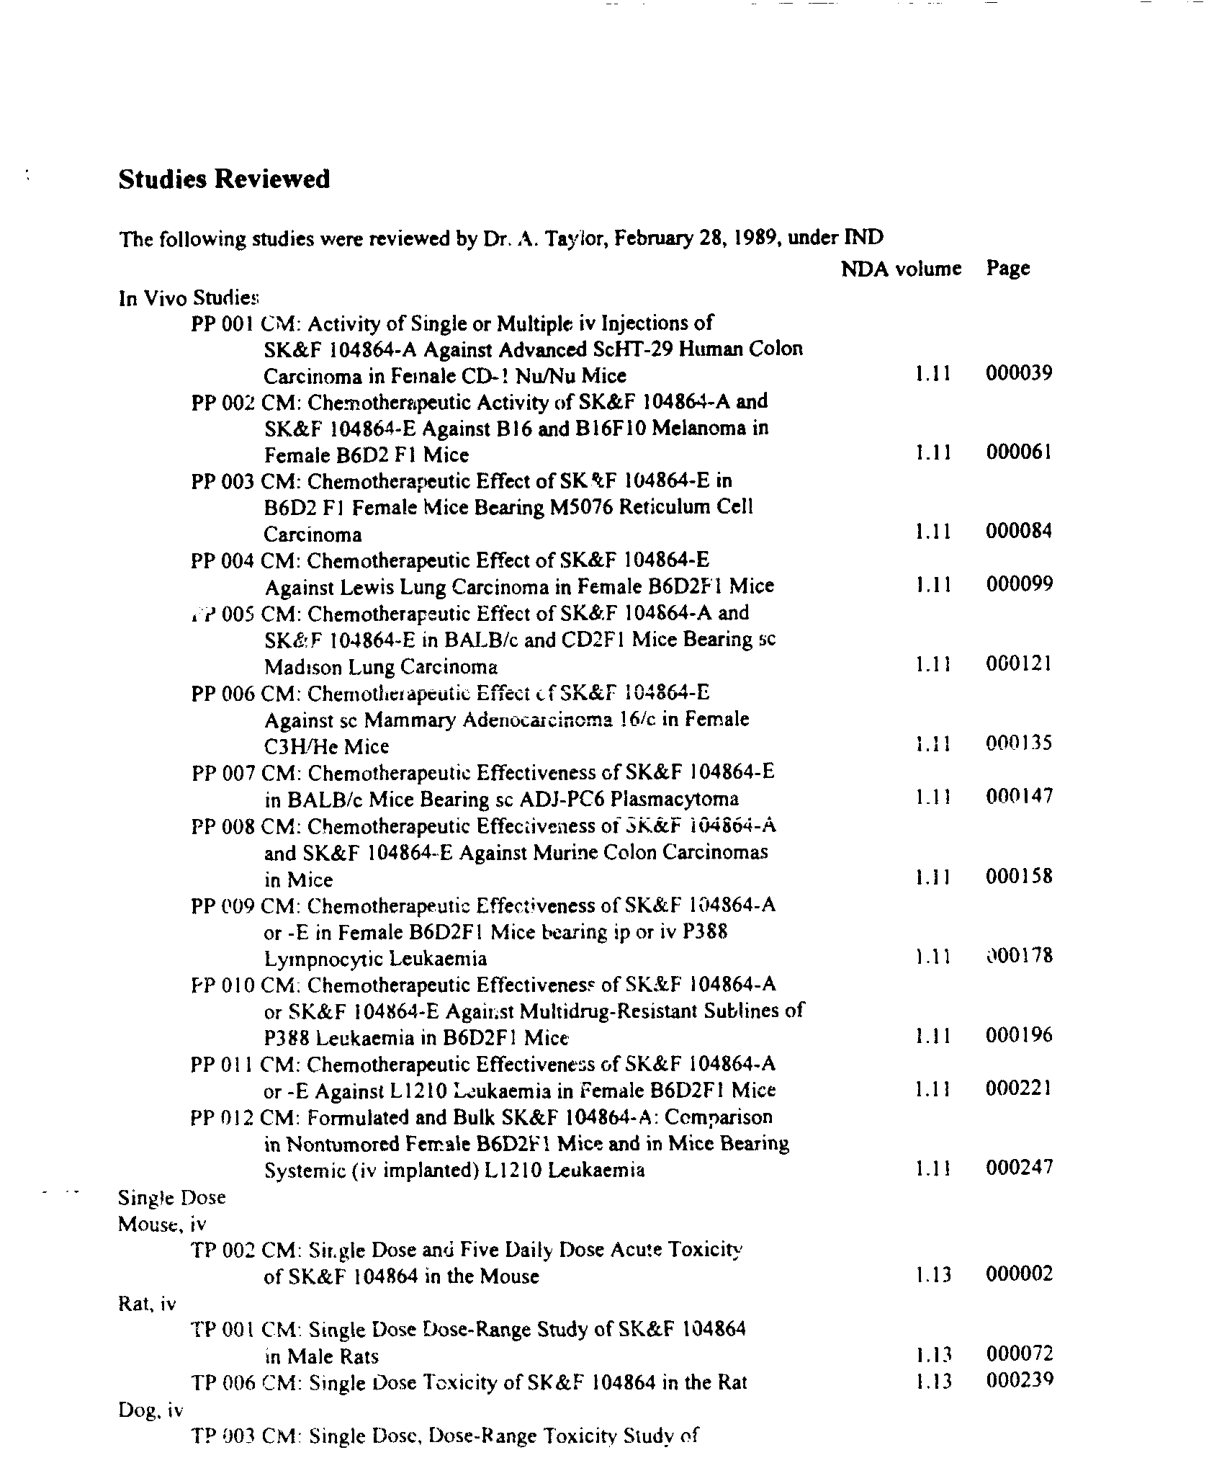nolines: (109, 251, 1060, 1453)
